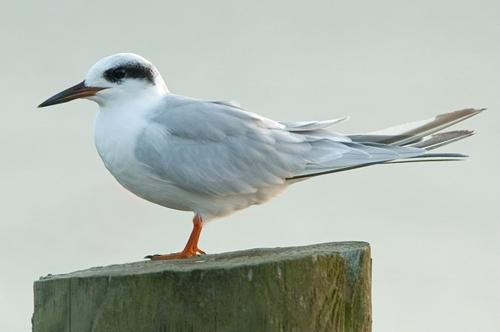bird: (36, 49, 484, 260)
